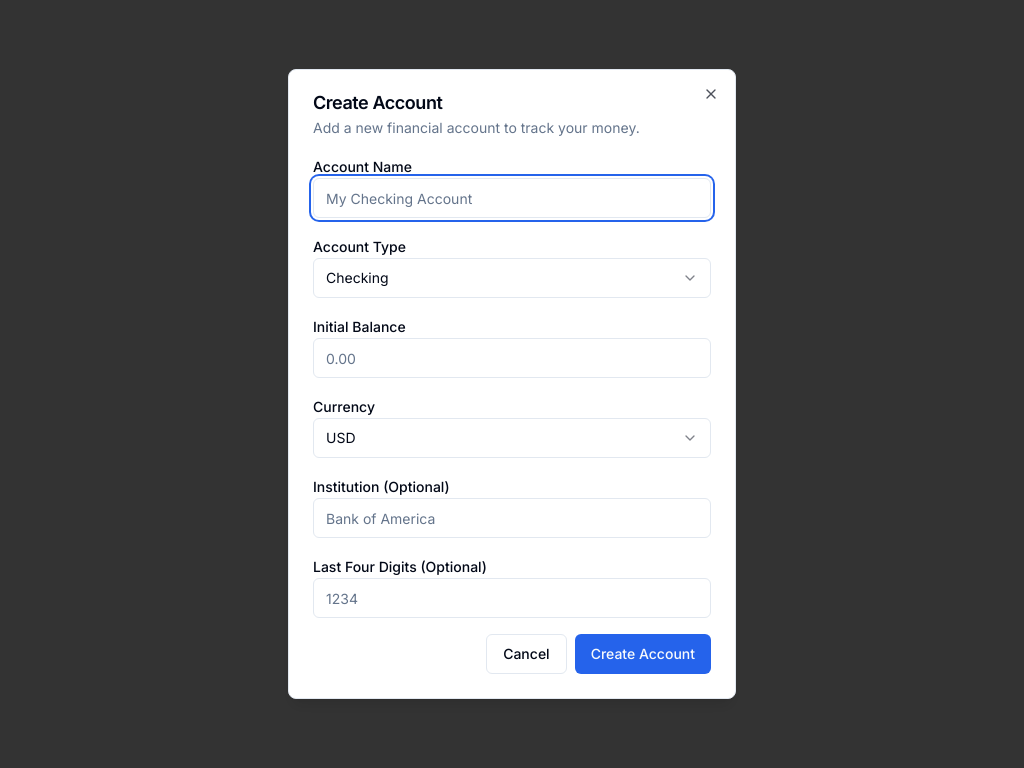
Test: AccountCreateModal › shows validation errors for empty required fields
Click the button "Create Account".
click(643, 654)  # box left=575, top=634, right=711, bottom=674
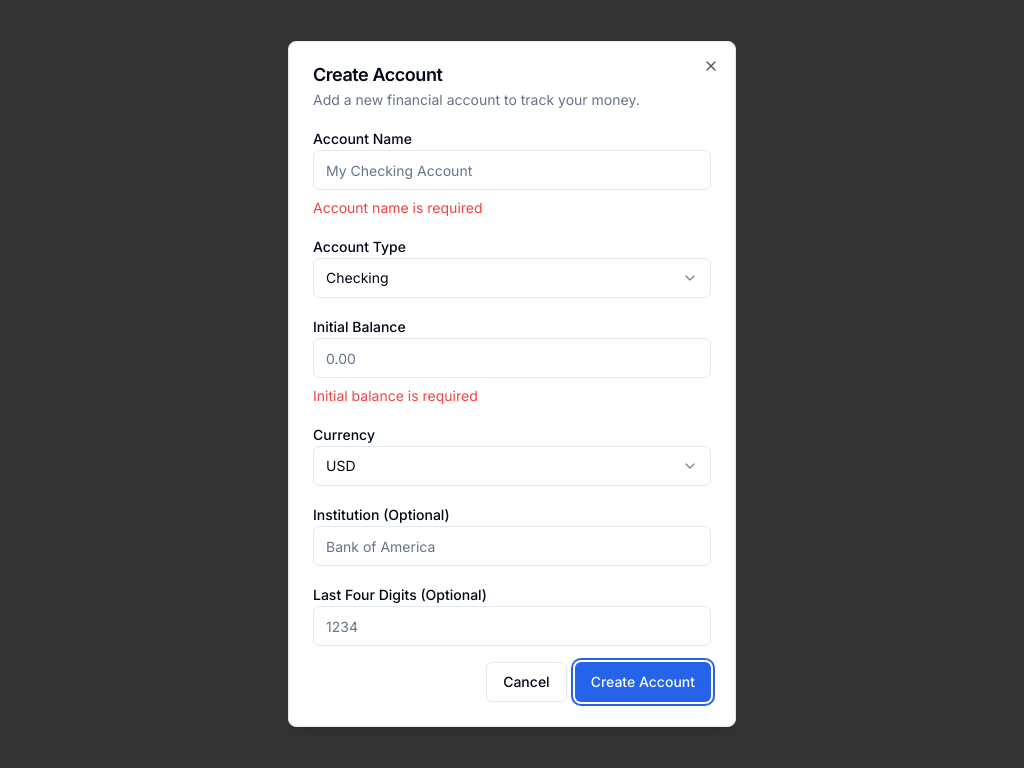
Expected: the text "Account name is required" is shown, left=313, top=199, right=482, bottom=216
